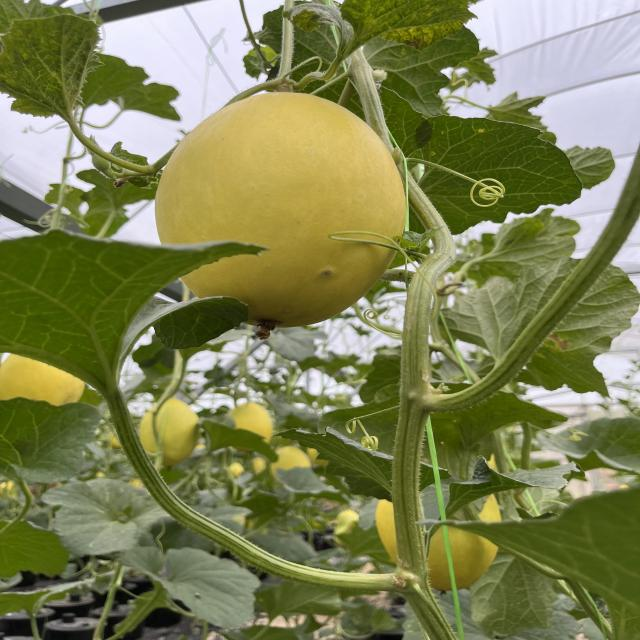CMV: (0, 0, 120, 119)
downy mildew: (0, 2, 144, 122), (265, 0, 490, 62)
healthy: (0, 226, 260, 394)
